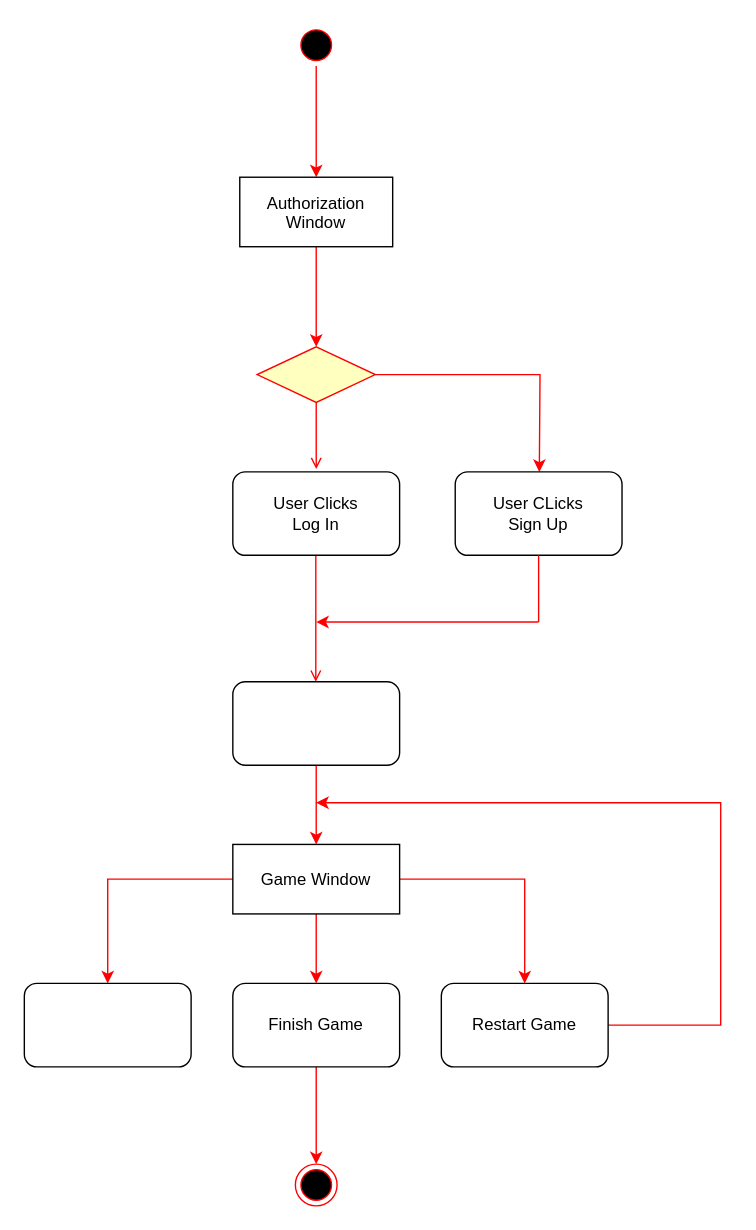
The diagram is 756 pixels wide and 1230 high, and some of its shapes have lost their labels. Each missing label, with the centre of its shape:
Is User Registered: the point at 315,373
Play Game: the point at 107,1024
User 2 Autorizes: the point at 315,722
